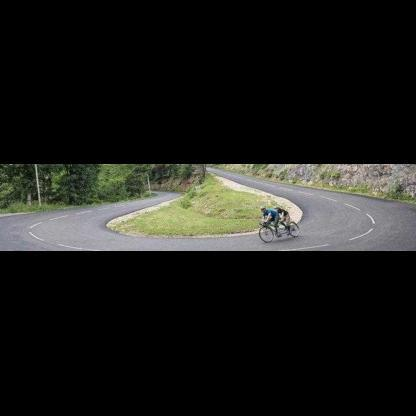Bicycle: (258, 218, 305, 243)
